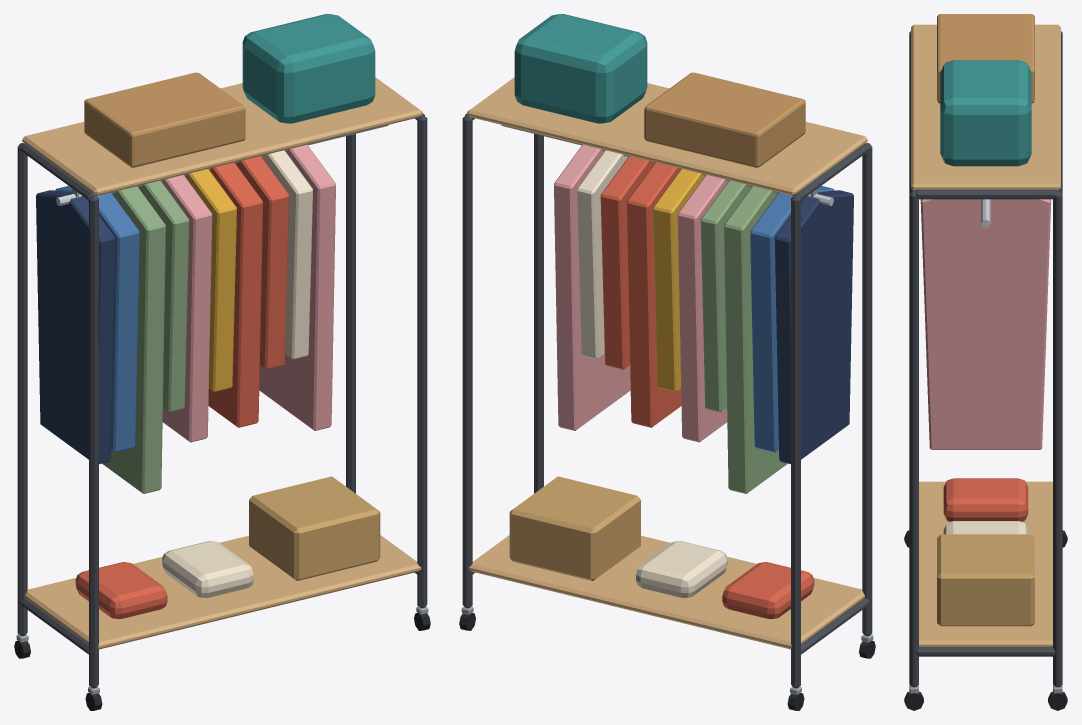
The model's file is rolling_clothes_rack.glb.
3 renders of one model, left to right at view 1: azimuth 30°, elevation 25°; view 2: azimuth 150°, elevation 25°; view 3: azimuth 270°, elevation 25°, orthographic.
Visible parts, largest first — view 1: rolling_clothes_rack_Body; view 2: rolling_clothes_rack_Body; view 3: rolling_clothes_rack_Body.
Part boxes in pixels (x1,y1,x2,y2): rolling_clothes_rack_Body: (14, 14, 430, 710); rolling_clothes_rack_Body: (459, 14, 875, 710); rolling_clothes_rack_Body: (904, 14, 1067, 710).
Size of the model in its own units: 1.2 by 2 by 0.5.
